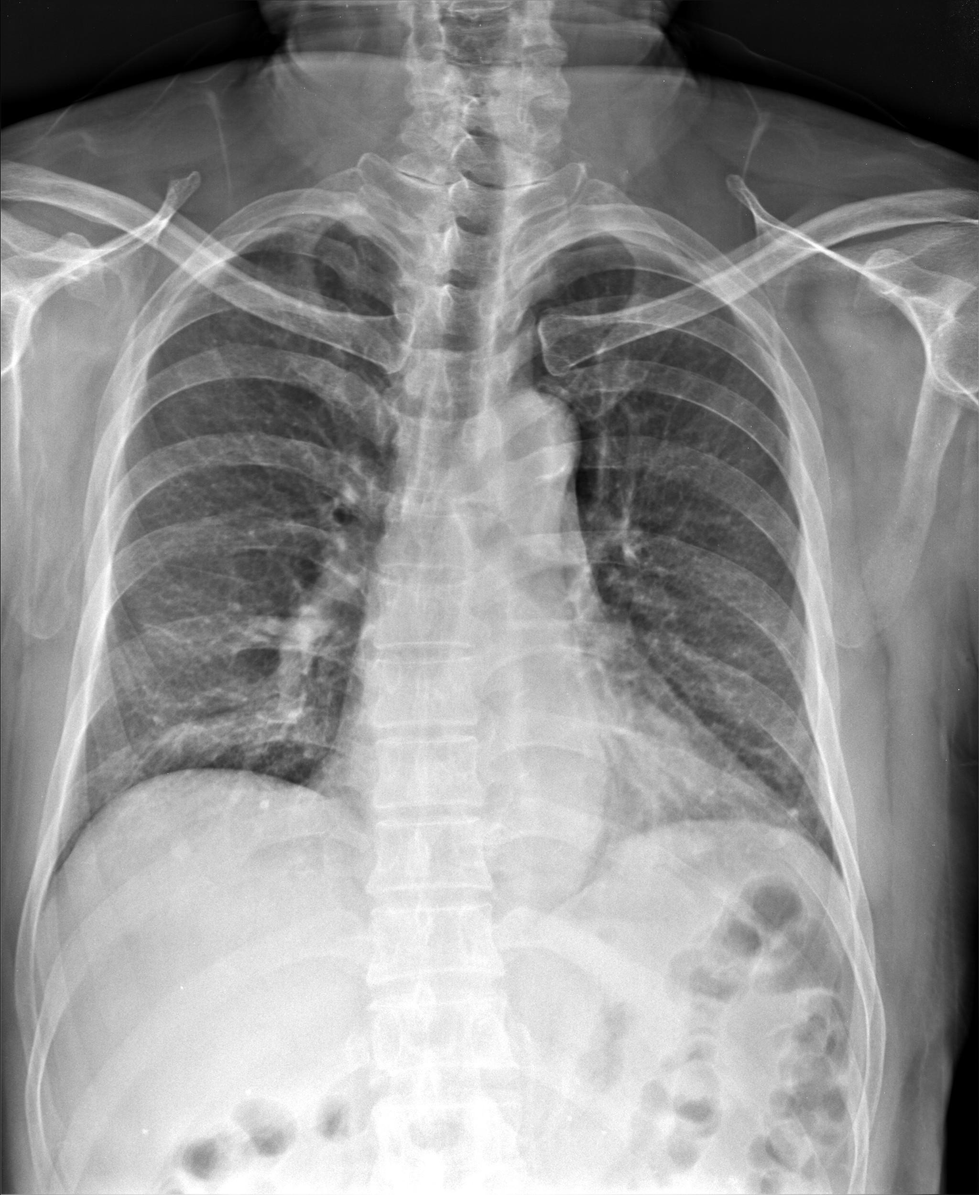Aortic enlargement: (477, 384, 582, 500)
Cardiomegaly: (312, 681, 812, 900)
Pleural thickening: (235, 209, 386, 246)
